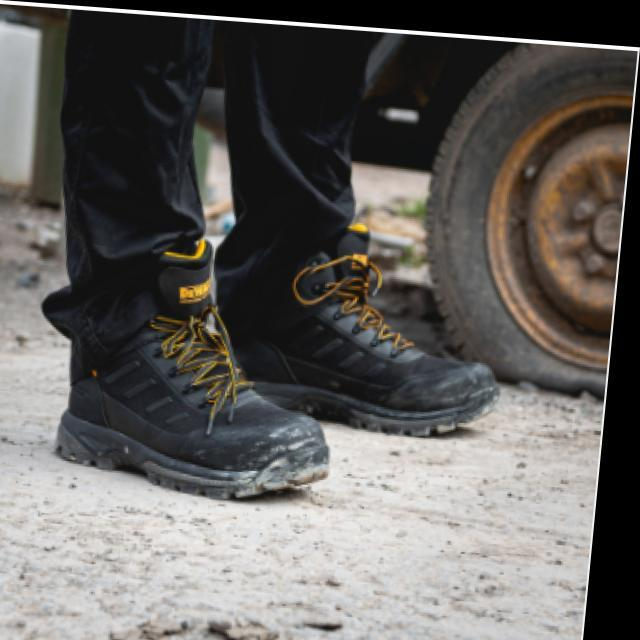boots: (5, 190, 513, 521)
